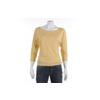maglia: (31, 26, 67, 66)
